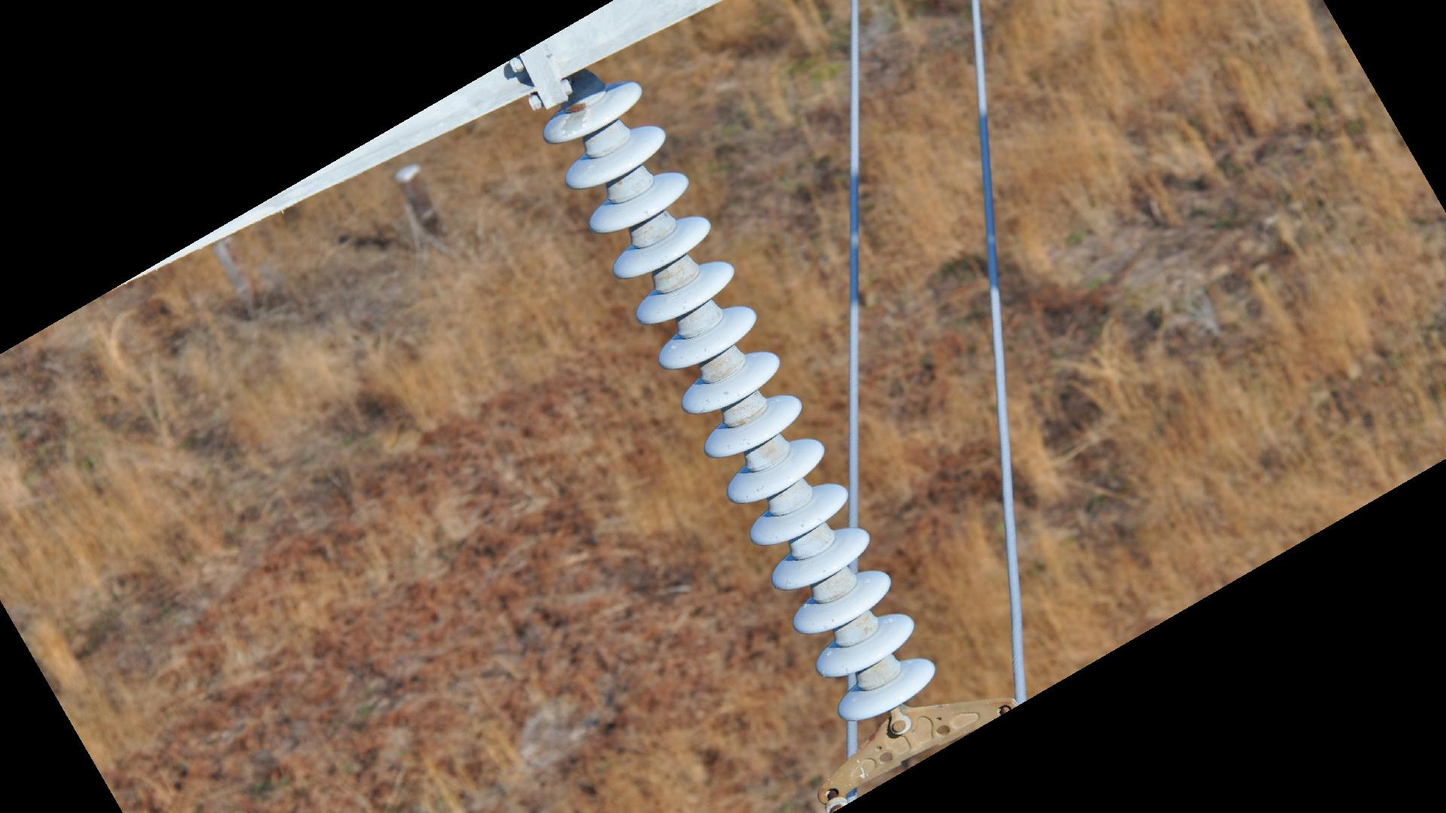insulator: (538, 72, 941, 727)
insulator_flashover: (558, 106, 589, 139)
